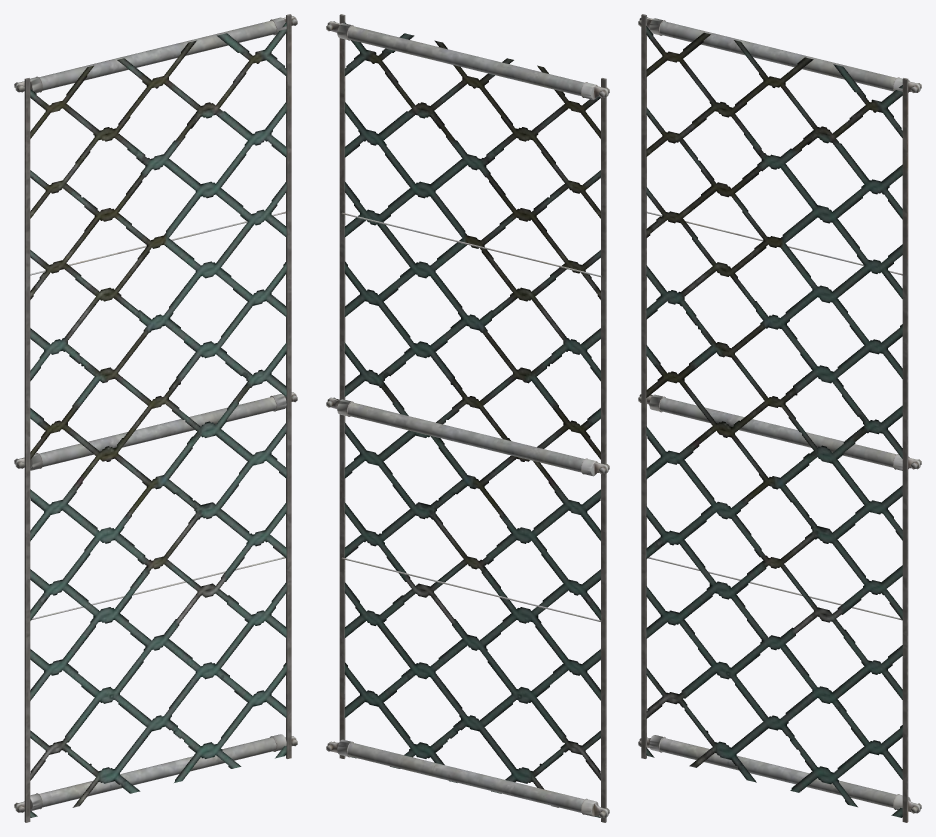
File: modular-chainlink-fence-panel.glb
3 renders of one model, left to right at view 1: azimuth 30°, elevation 25°; view 2: azimuth 150°, elevation 25°; view 3: azimuth 330°, elevation 25°, orthographic.
Visible parts, largest first — view 1: modular_chainlink_fence_panel; view 2: modular_chainlink_fence_panel; view 3: modular_chainlink_fence_panel.
Boxes of the visible parts, x1=… form: modular_chainlink_fence_panel: x1=14, y1=14, x2=297, y2=822; modular_chainlink_fence_panel: x1=326, y1=14, x2=609, y2=822; modular_chainlink_fence_panel: x1=638, y1=14, x2=921, y2=822.
Bounding box in the file's own units: 0.934 × 2.37 × 0.0483.
Materials: 2 (2 with a texture image).
